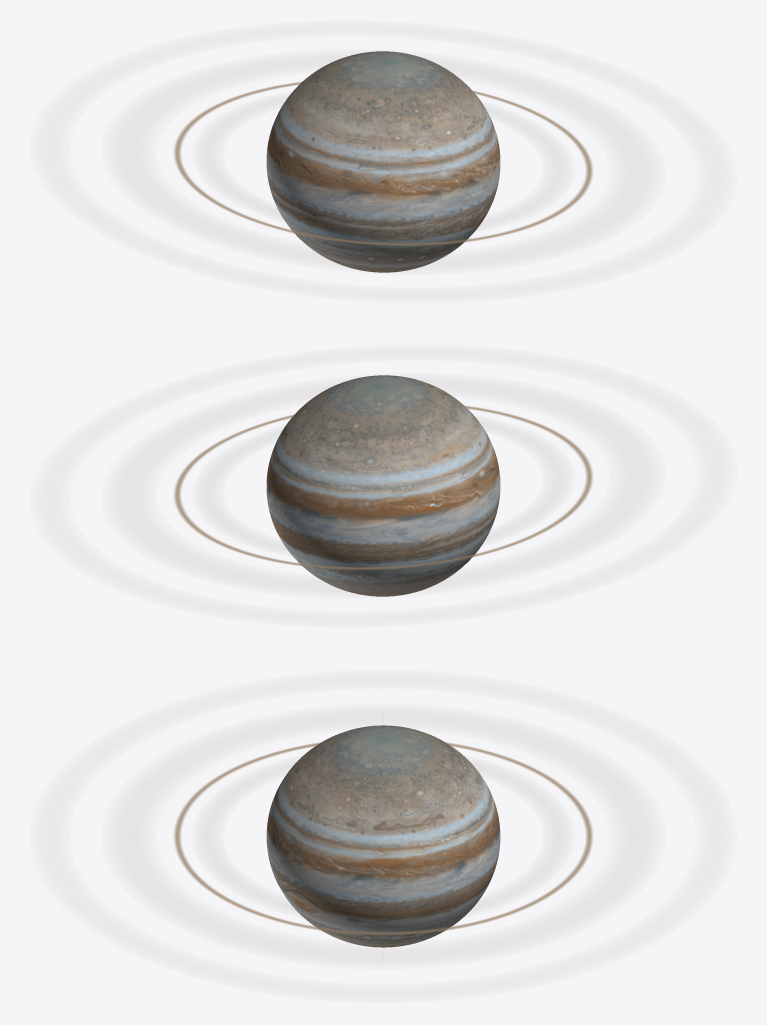
File: jupiter.glb
3 views of the same model, one above another, from view 1: azimuth 30°, elevation 25°; view 2: azimuth 150°, elevation 25°; view 3: azimuth 270°, elevation 25° (orthographic).
Visible parts, largest first — view 1: Jupiter • oblate cloud deck.002, Main ring.002; view 2: Jupiter • oblate cloud deck.002, Main ring.002; view 3: Jupiter • oblate cloud deck.002, Main ring.002.
Boxes of the visible parts, x1=… form: Jupiter • oblate cloud deck.002: x1=266, y1=51, x2=500, y2=272; Main ring.002: x1=174, y1=82, x2=592, y2=245; Jupiter • oblate cloud deck.002: x1=266, y1=375, x2=500, y2=596; Main ring.002: x1=174, y1=406, x2=592, y2=569; Jupiter • oblate cloud deck.002: x1=266, y1=725, x2=500, y2=947; Main ring.002: x1=174, y1=742, x2=592, y2=934.
Bounding box in the file's own units: 6.31 × 1.87 × 6.32.
5 materials, 5 textured.
